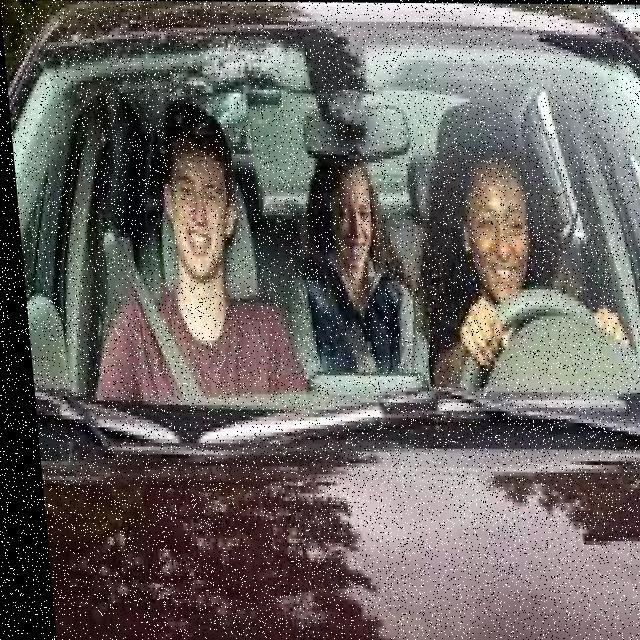seatbelt: (81, 279, 263, 398)
